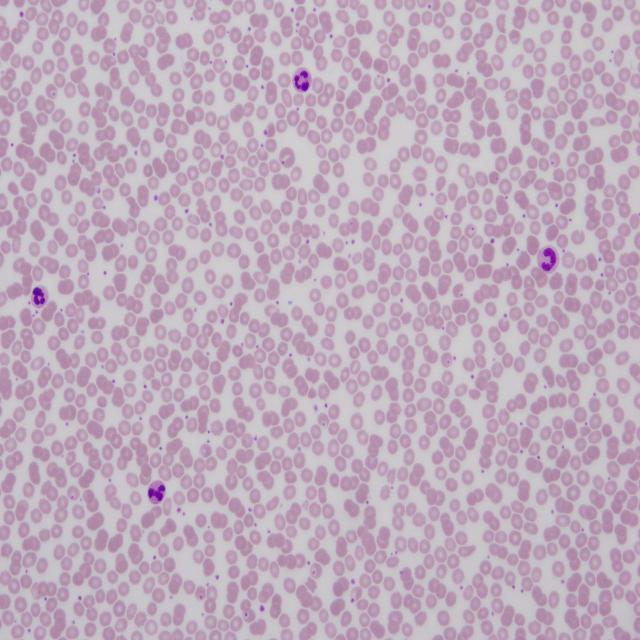cell: (538, 245, 560, 273), (292, 67, 311, 92), (31, 285, 49, 308), (148, 480, 165, 504)
